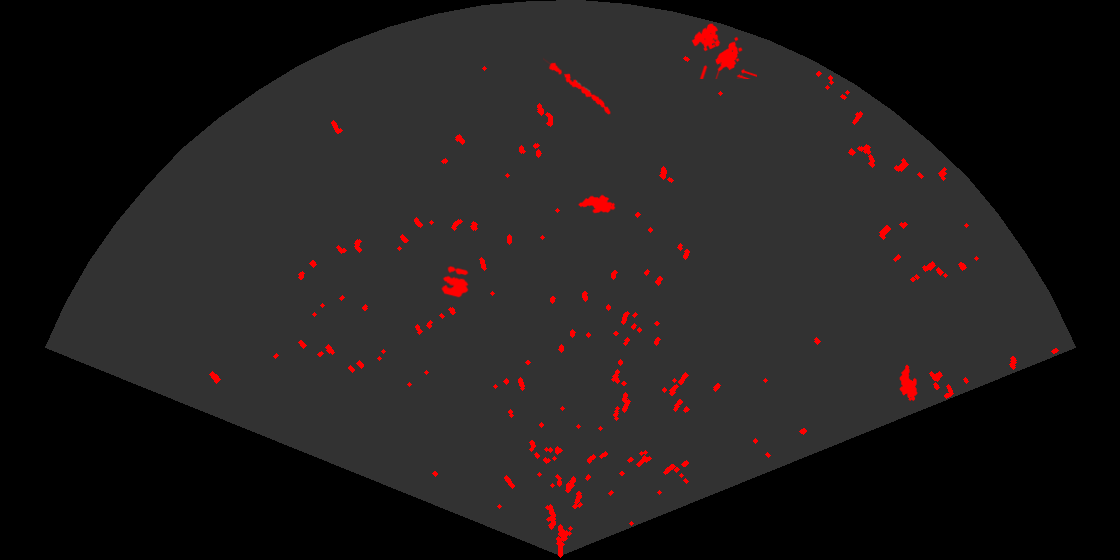AUV: (576, 193, 617, 215), (898, 363, 919, 403)
ball: (440, 264, 470, 299)
cage: (690, 22, 757, 79)
chain: (543, 56, 612, 116)
